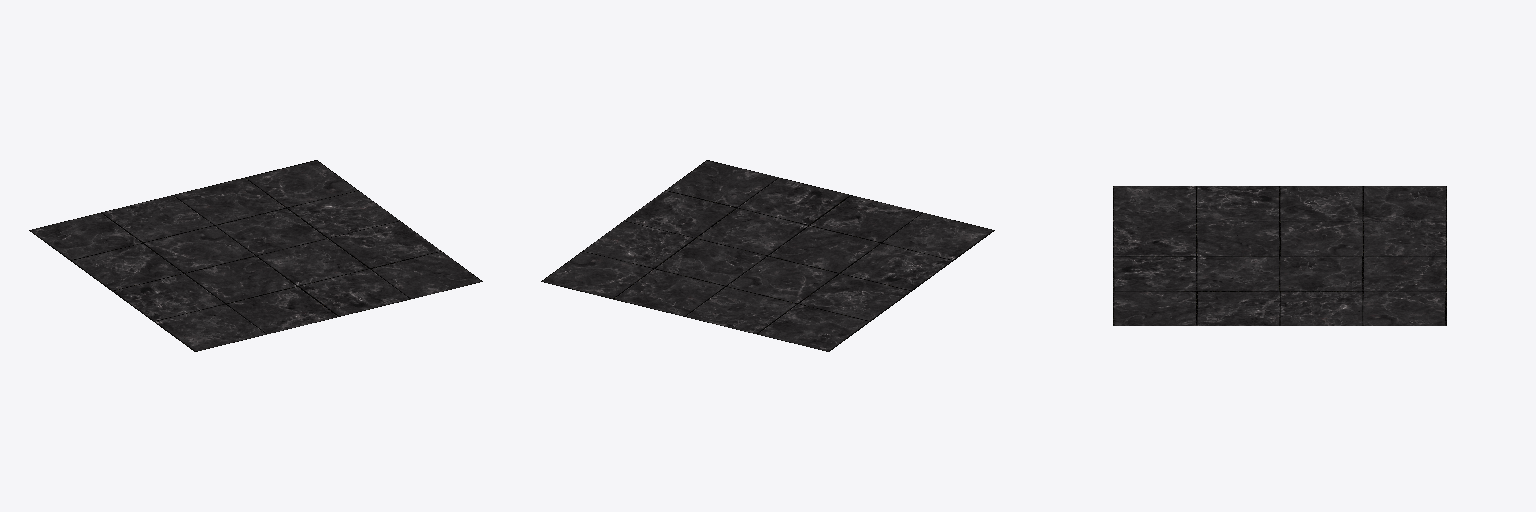
3 renders of one model, left to right at view 1: azimuth 30°, elevation 25°; view 2: azimuth 150°, elevation 25°; view 3: azimuth 270°, elevation 25°, orthographic.
Visible parts, largest first — view 1: Plane; view 2: Plane; view 3: Plane.
Boxes of the visible parts, <box> form: Plane: <box>29,160,482,351</box>; Plane: <box>541,160,994,351</box>; Plane: <box>1113,186,1446,325</box>.
Size of the model in its own units: 4 by 0 by 4.
1 materials, 1 textured.